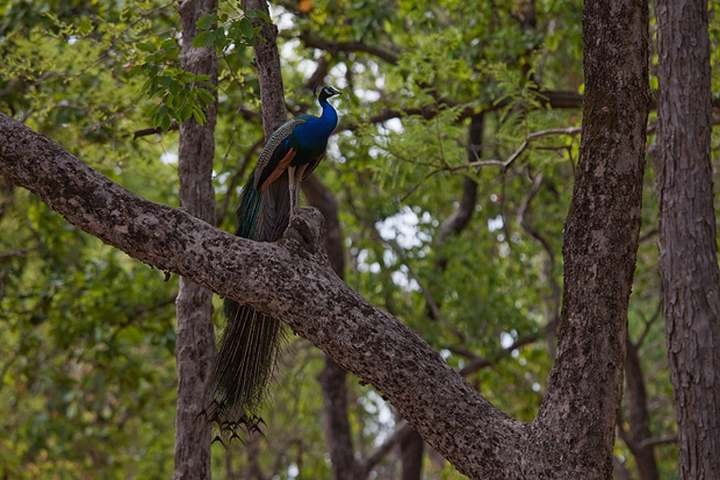pavoreal: (276, 79, 342, 188)
